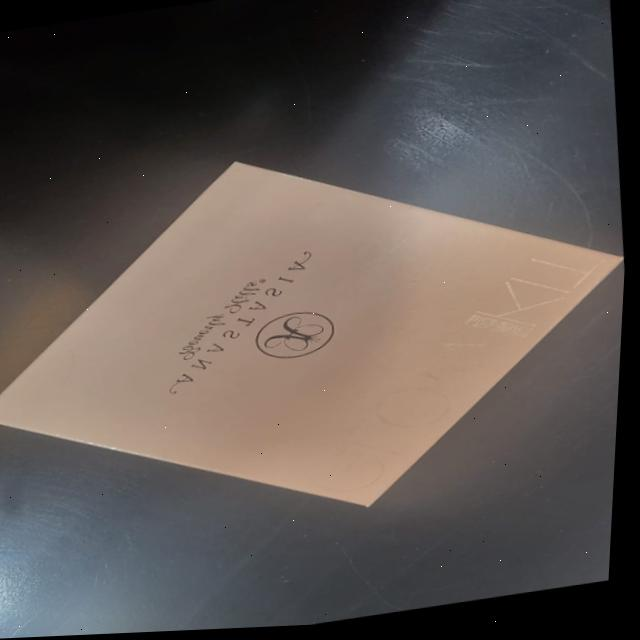powder: (0, 100, 635, 565)
